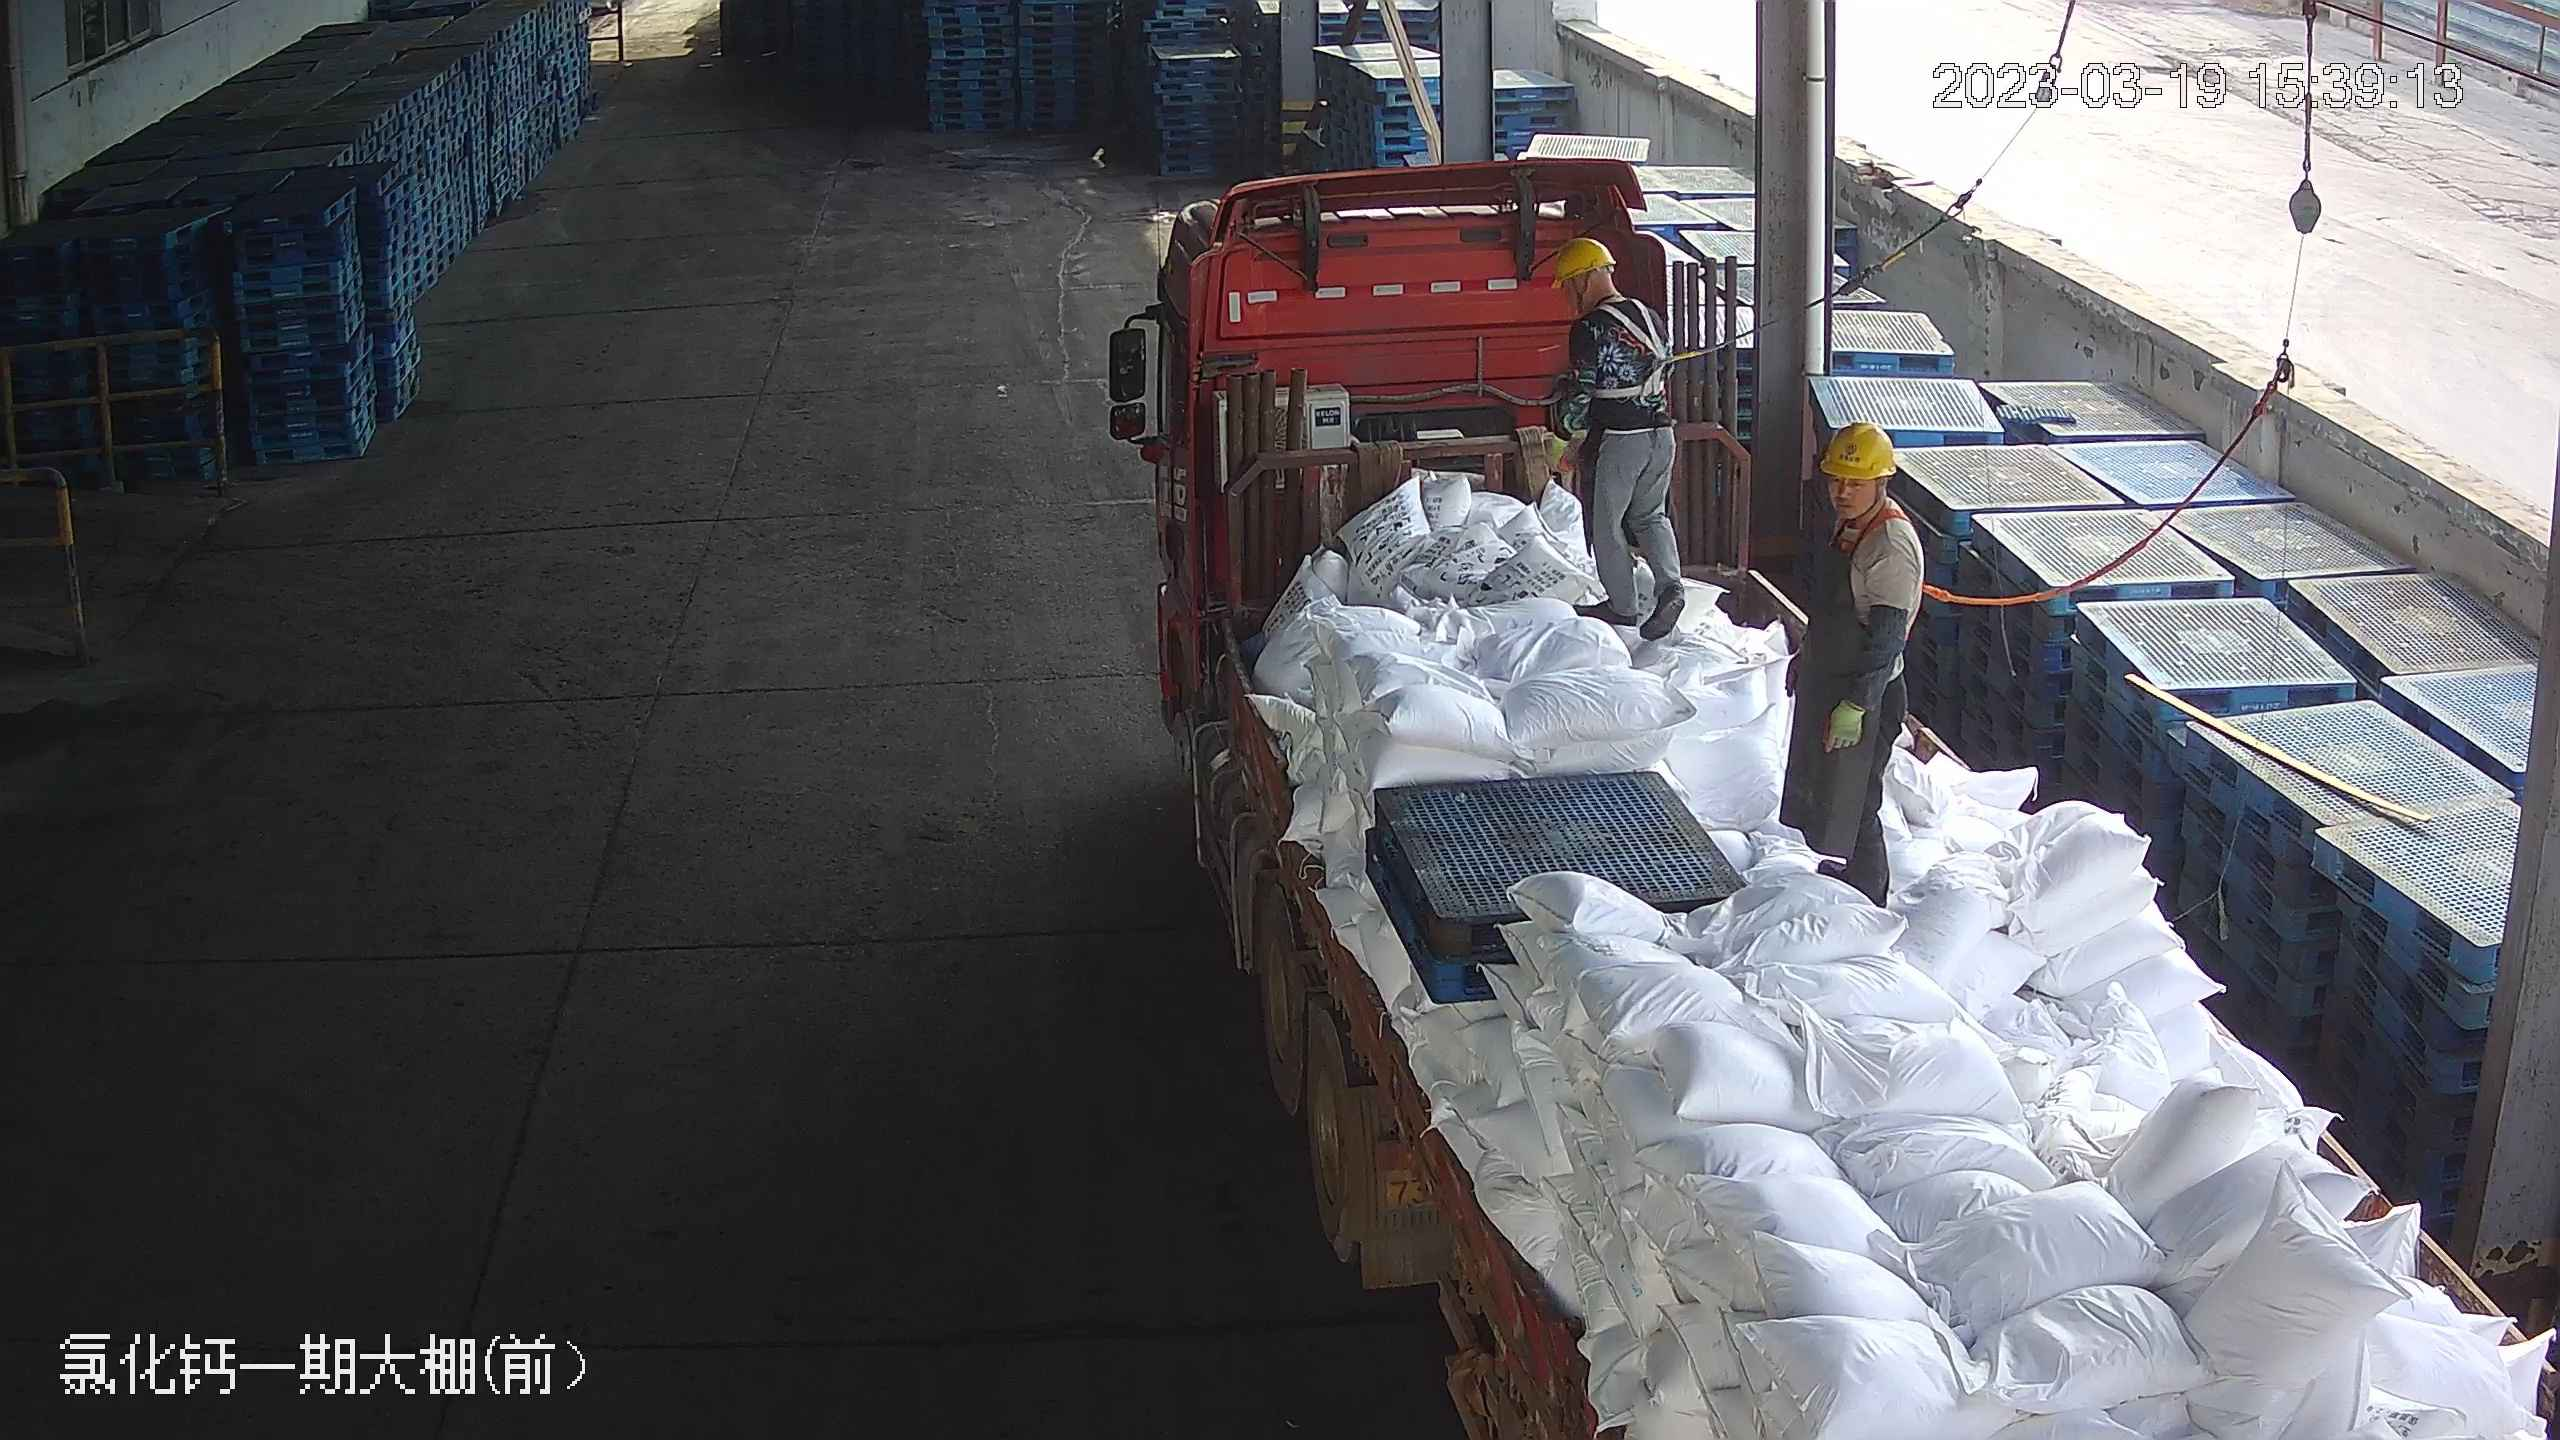belt: (1819, 501, 1947, 616), (1590, 300, 1683, 408)
head: (1794, 418, 1926, 586), (1544, 234, 1670, 371)
helmet: (1813, 418, 1898, 483), (1547, 233, 1618, 286)
people: (1775, 421, 1928, 908), (1539, 232, 1697, 659)
truck: (1113, 172, 2524, 1433)
